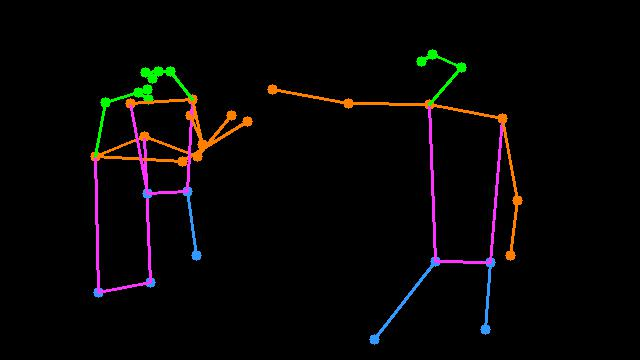normal: (262, 30, 545, 356)
